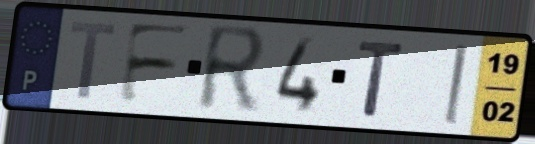4: (273, 35, 324, 116)
F: (114, 20, 195, 107)
I: (441, 42, 470, 128)
R: (194, 21, 272, 117)
T: (67, 18, 120, 102), (355, 38, 408, 120)
